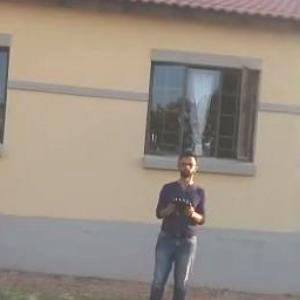follow: (137, 145, 208, 299)
